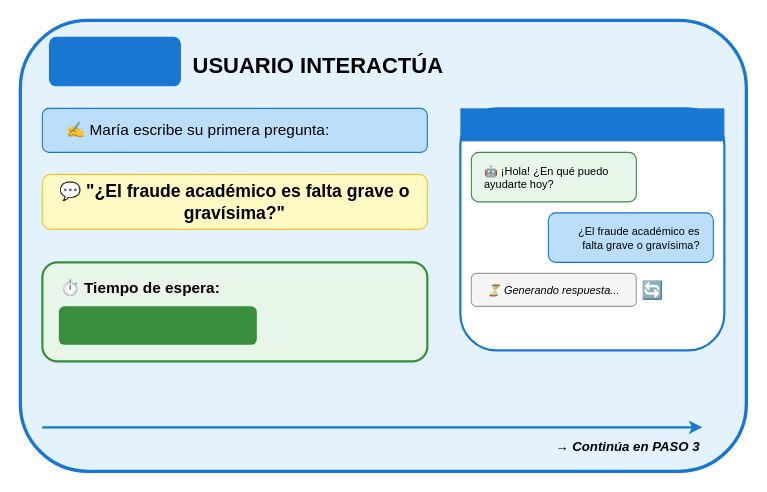
Some shapes in this 767 by 492 pixel diagram are drawn without their labels. Here are the shapes that lost their labels. From the top down, the centre of each, then its label:
At [114,61]: "PASO 2".
At [592,124]: "🤖 ARB-BOT 🟢".
At [157,325]: "~2-3 segundos".
